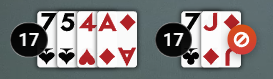4: (76, 10, 98, 34)
5: (57, 11, 77, 34)
7: (35, 11, 58, 34), (180, 10, 202, 34)
a: (96, 10, 119, 34)
j: (200, 10, 221, 35)
